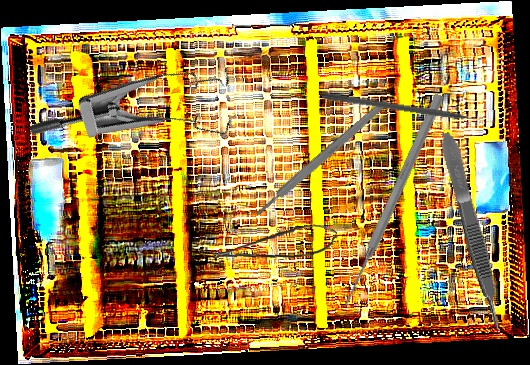Micro Scissor: (211, 222, 339, 263)
Pusher: (338, 91, 447, 310), (321, 91, 493, 128)
Scalpel Handle: (253, 98, 390, 218)
Speculum: (26, 31, 254, 214)
Tissue Forceps: (436, 130, 508, 335)
